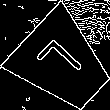L_SE: (35, 35, 92, 92)
